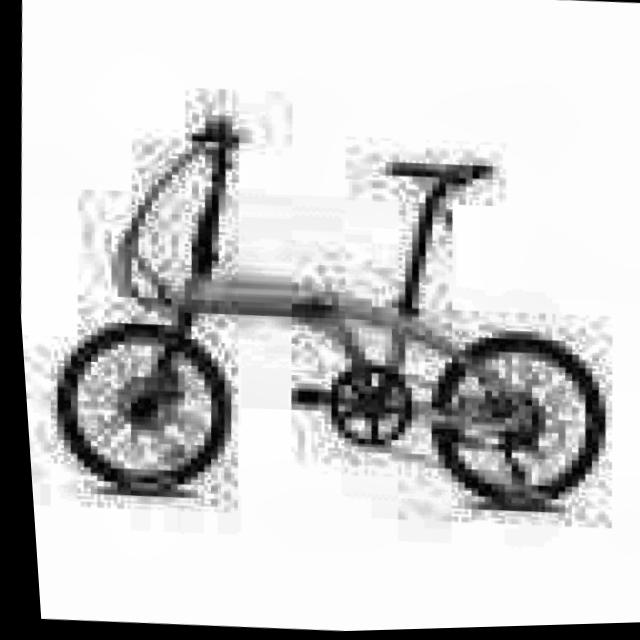motorcycle: (15, 93, 622, 555)
